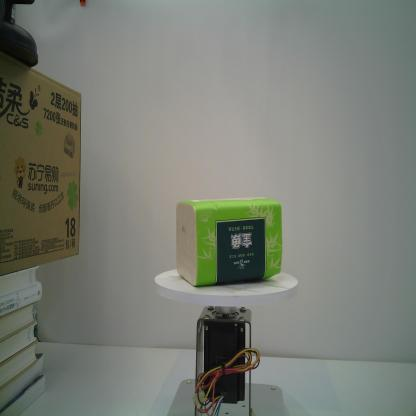Tissue: (174, 195, 284, 289)
